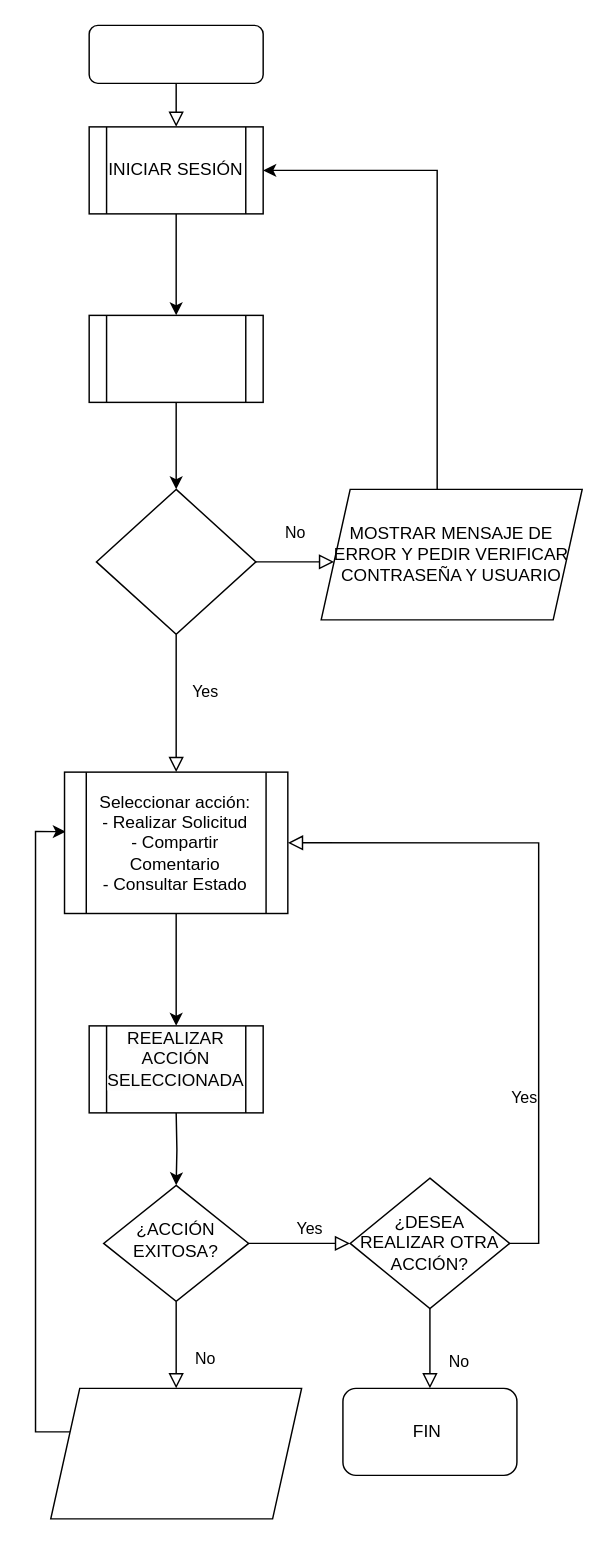
This 608x1544 diagram has some shape labels left out. Each missing label, with the box of its shape:
INICIO: (88, 24, 263, 83)
MOSTRAR MENSAJE DE ERROR Y VOLVER A ACCIONES: (49, 1387, 302, 1519)
VERIFICAR CREDENCIALES: (88, 314, 263, 402)
¿INICIO DE SESIÓN EXITOSO?: (95, 488, 256, 634)
